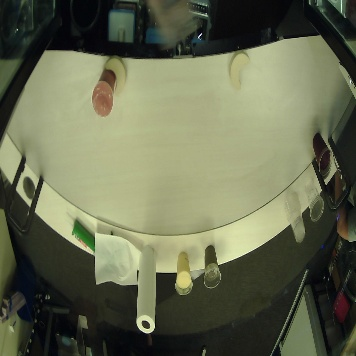empty_cup: (278, 191, 309, 245), (304, 175, 324, 224)
full_cup: (91, 69, 120, 119), (168, 248, 197, 298), (196, 241, 225, 291), (307, 128, 336, 178)
puck: (227, 50, 254, 95), (103, 53, 130, 98)
